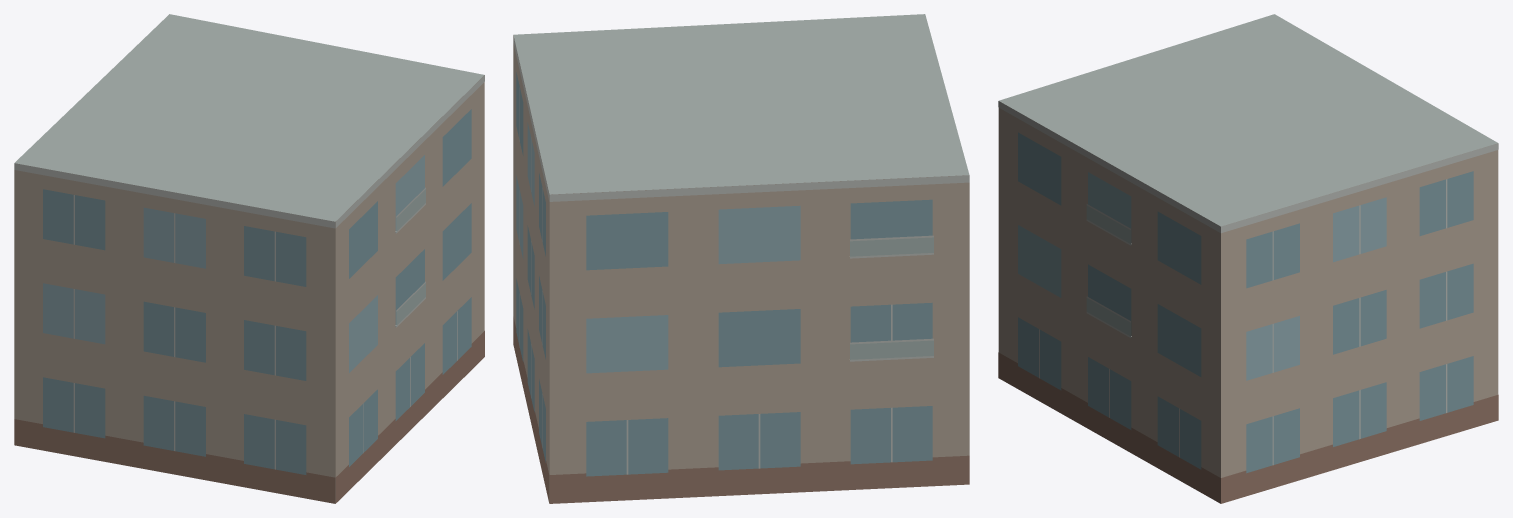
The model's file is survey-upis-32591220.glb.
3 views of the same model, side by side, from view 1: azimuth 30°, elevation 25°; view 2: azimuth 150°, elevation 25°; view 3: azimuth 270°, elevation 25° (orthographic). The views are drawn at different scales.
Parts seen in each view (by area): view 1: survey-upis-32591220.tmp; view 2: survey-upis-32591220.tmp; view 3: survey-upis-32591220.tmp.
Boxes of the visible parts, box(x1,y1,x2,y2) form: survey-upis-32591220.tmp: box(14, 14, 484, 503); survey-upis-32591220.tmp: box(513, 14, 969, 503); survey-upis-32591220.tmp: box(998, 14, 1498, 503).
Bounding box in the file's own units: 16.65 × 10.12 × 16.55.
